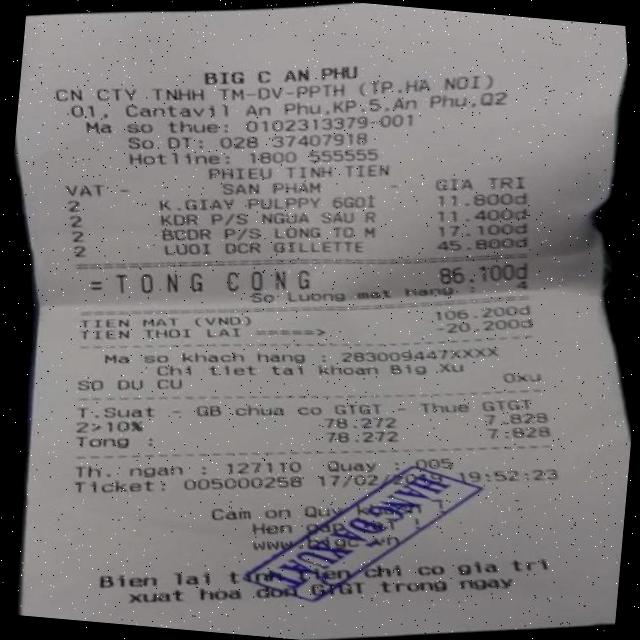Date: (310, 453, 450, 508)
Store_Name: (182, 33, 381, 108)
amount_number: (433, 248, 514, 292)
label_total: (109, 244, 318, 318)
